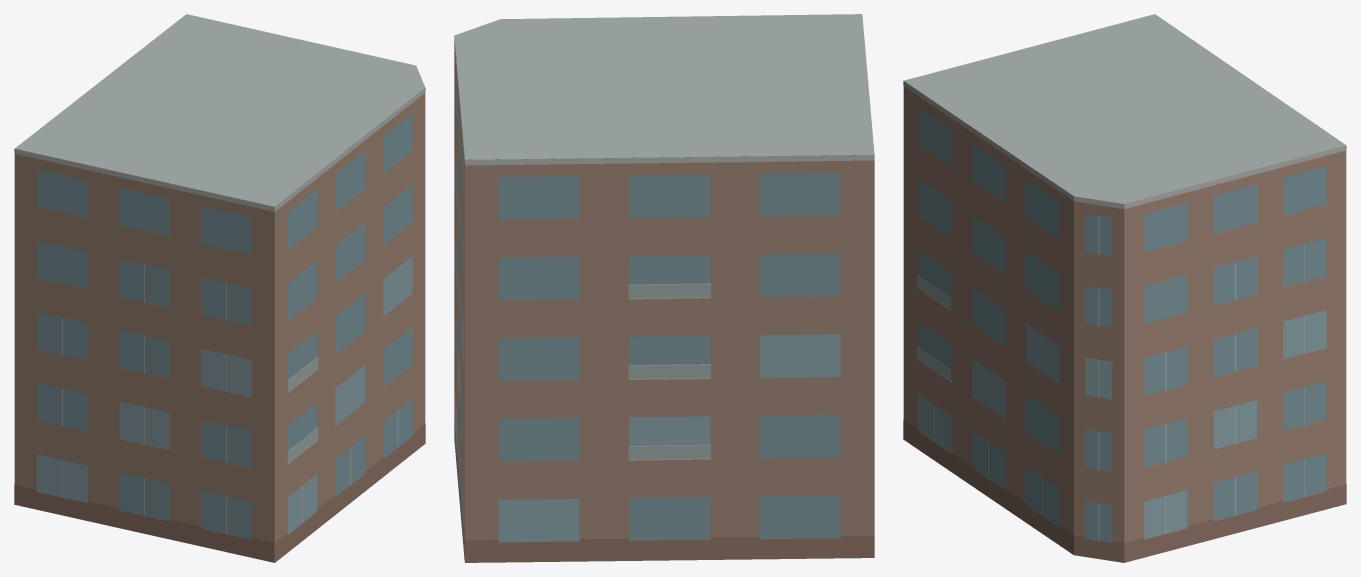
The model's file is survey-upis-32768332.glb.
The picture shows the model from 3 angles, left to right: view 1: azimuth 30°, elevation 25°; view 2: azimuth 150°, elevation 25°; view 3: azimuth 270°, elevation 25°; orthographic projection. The views are drawn at different scales.
Visible parts, largest first — view 1: survey-upis-32768332.tmp; view 2: survey-upis-32768332.tmp; view 3: survey-upis-32768332.tmp.
Part boxes in pixels (x1,y1,x2,y2): survey-upis-32768332.tmp: (14, 14, 425, 562); survey-upis-32768332.tmp: (454, 14, 874, 562); survey-upis-32768332.tmp: (903, 14, 1346, 562).
Size of the model in its own units: 19.6 by 17.25 by 19.31.
